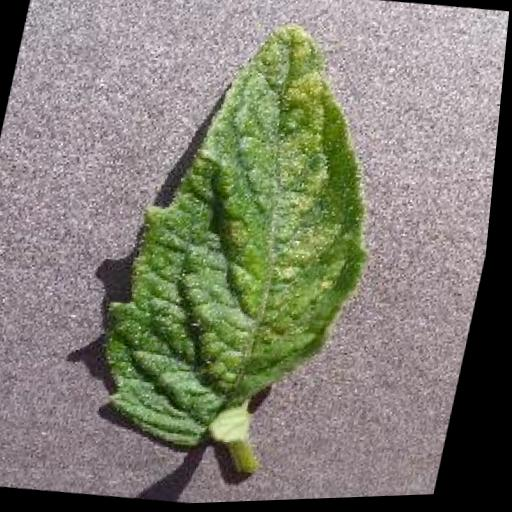Spider Mites: (79, 5, 420, 472)
